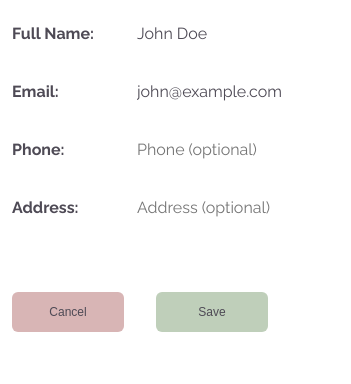
PersonalDataForm › shows validation error on empty name
Clear the field with placeholder "Full Name" at (233, 33), box [132,12,334,54]
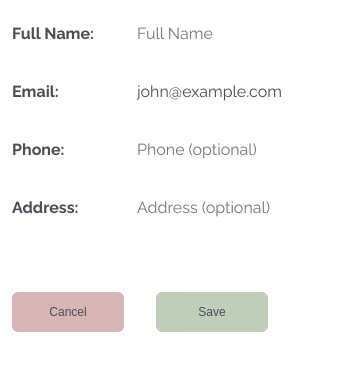
Click the button "Save".
click(212, 312)  # box [156,292,268,332]
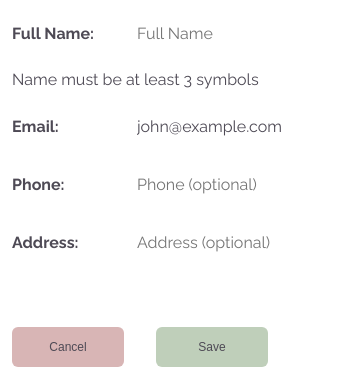
Check: the text "Name must be at least 3 symbols" is shown, box [12,70,259,89]
